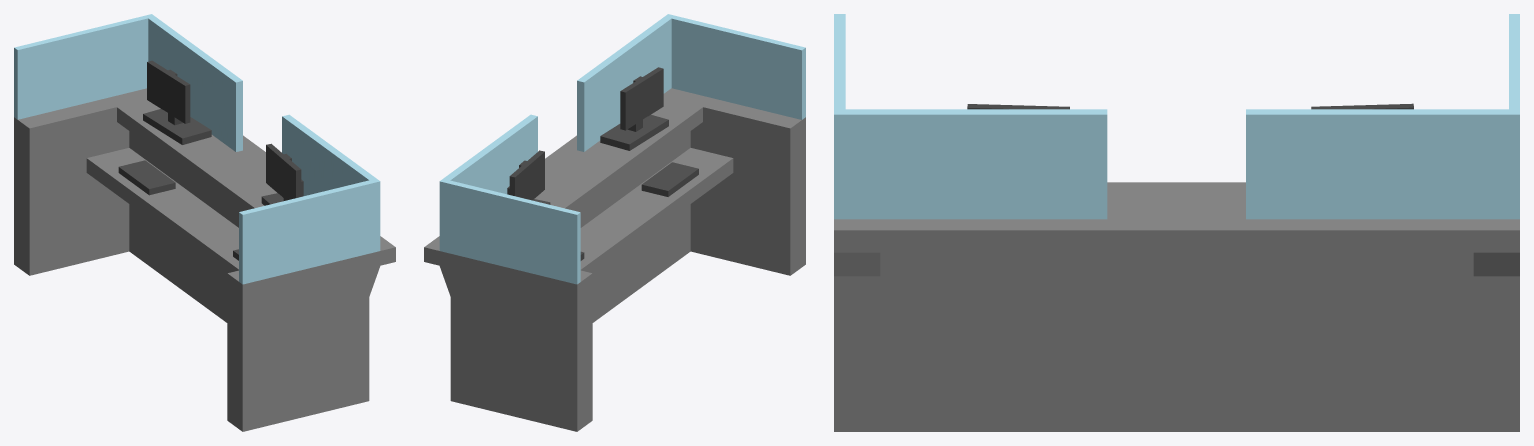
The model's file is SecurityDesk.fbx.
3 views of the same model, side by side, from view 1: azimuth 30°, elevation 25°; view 2: azimuth 150°, elevation 25°; view 3: azimuth 270°, elevation 25° (orthographic). The views are drawn at different scales.
Parts seen in each view (by area): view 1: Cube; view 2: Cube; view 3: Cube.
Part boxes in pixels (x1,y1,x2,y2): Cube: (14,14,395,431); Cube: (424,14,805,431); Cube: (834,14,1519,431).
Bounding box in the file's own units: 71.88 × 97.4 × 186.
